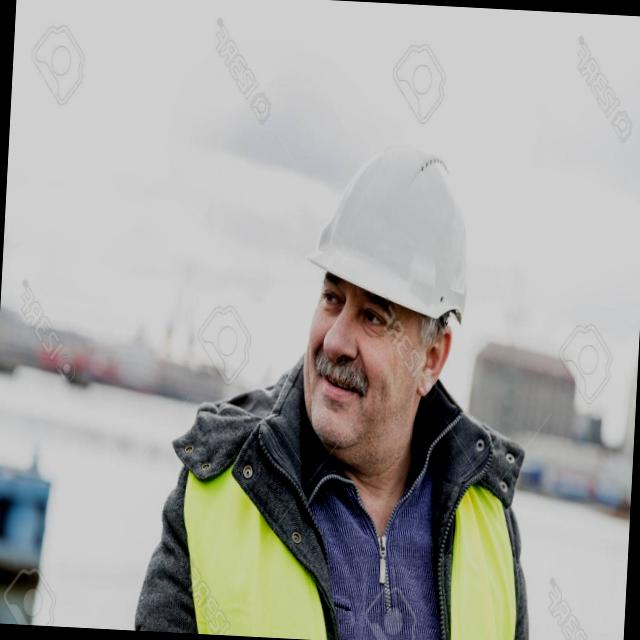helmet: (304, 141, 476, 332)
no-goggles: (302, 268, 436, 344)
vest: (173, 412, 530, 640)
